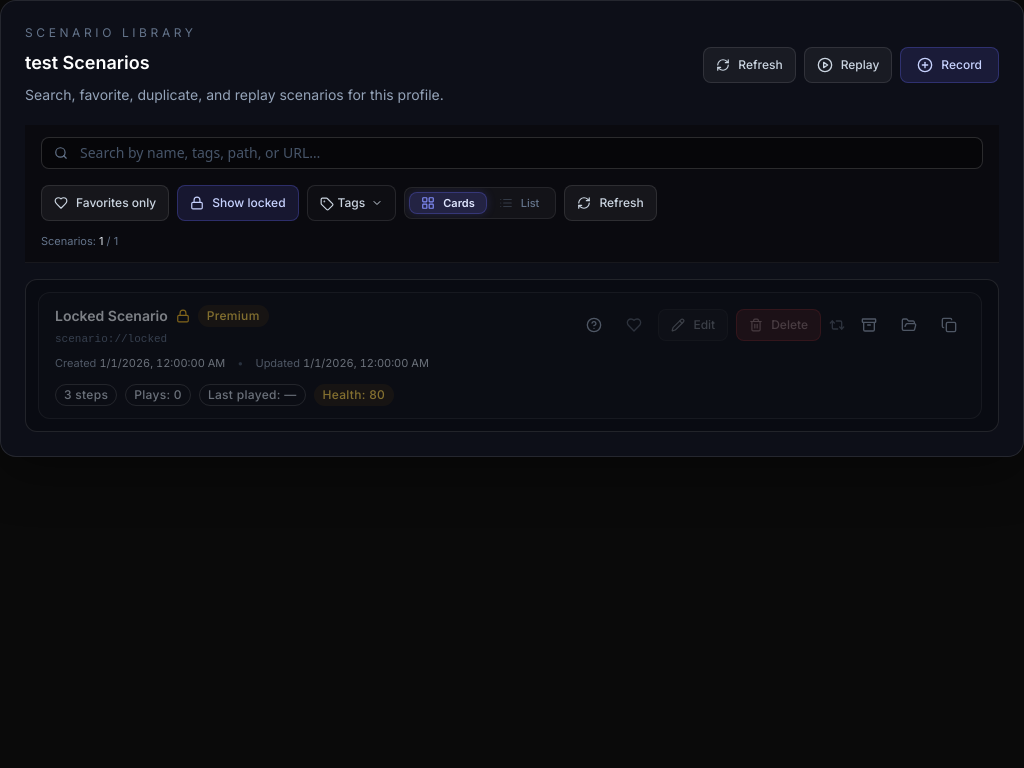
ProfileScenariosPanel lock popover › opens modal with instructions when how-to-get button is clicked
The width and height of the screenshot is (1024, 768).
Check: the text "Locked Scenario" is shown, box [55,306,168,326]
Click the how-to-get button.
Click the button named "how to get".
click(594, 324)  # box [578,308,610,340]
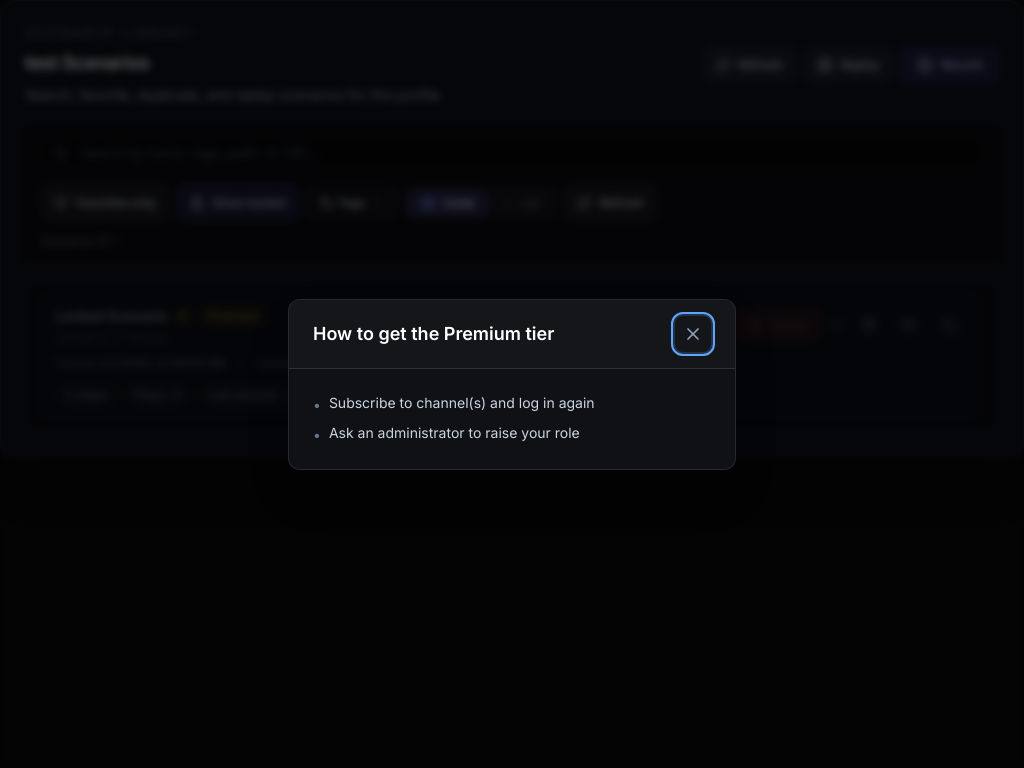
Check: the text "Subscribe to channel(s) and log in again" is shown, box [329,392,595,412]
Check: the text "Ask an administrator to raise your role" is shown, box [329,422,580,442]
